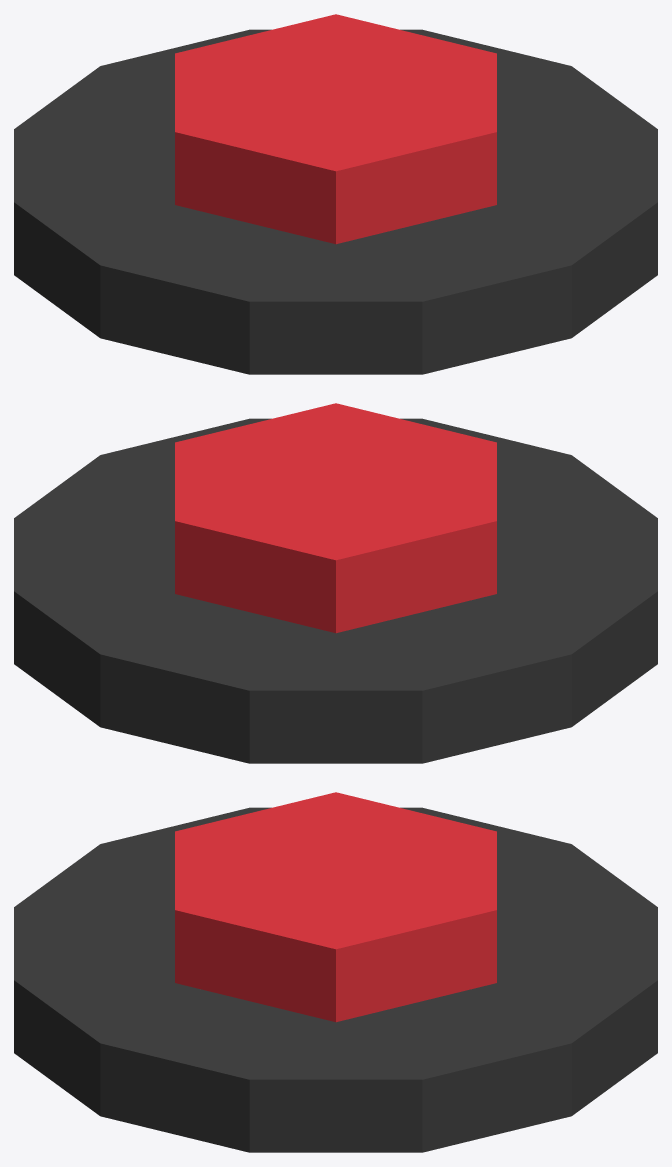
The model's file is mine.fbx.
The picture shows the model from 3 angles, top to bottom: view 1: azimuth 30°, elevation 25°; view 2: azimuth 150°, elevation 25°; view 3: azimuth 270°, elevation 25°; orthographic projection.
Parts seen in each view (by area): view 1: cylinder, cylinder_1; view 2: cylinder, cylinder_1; view 3: cylinder, cylinder_1.
Part boxes in pixels (box(x1,y1,x2,y2)): cylinder: box(14, 29, 657, 374); cylinder_1: box(175, 14, 496, 244); cylinder: box(14, 418, 657, 763); cylinder_1: box(175, 403, 496, 633); cylinder: box(14, 807, 657, 1152); cylinder_1: box(175, 792, 496, 1022).
Size of the model in its own units: 100 by 25 by 100.
Materials: 1 (1 with a texture image).
